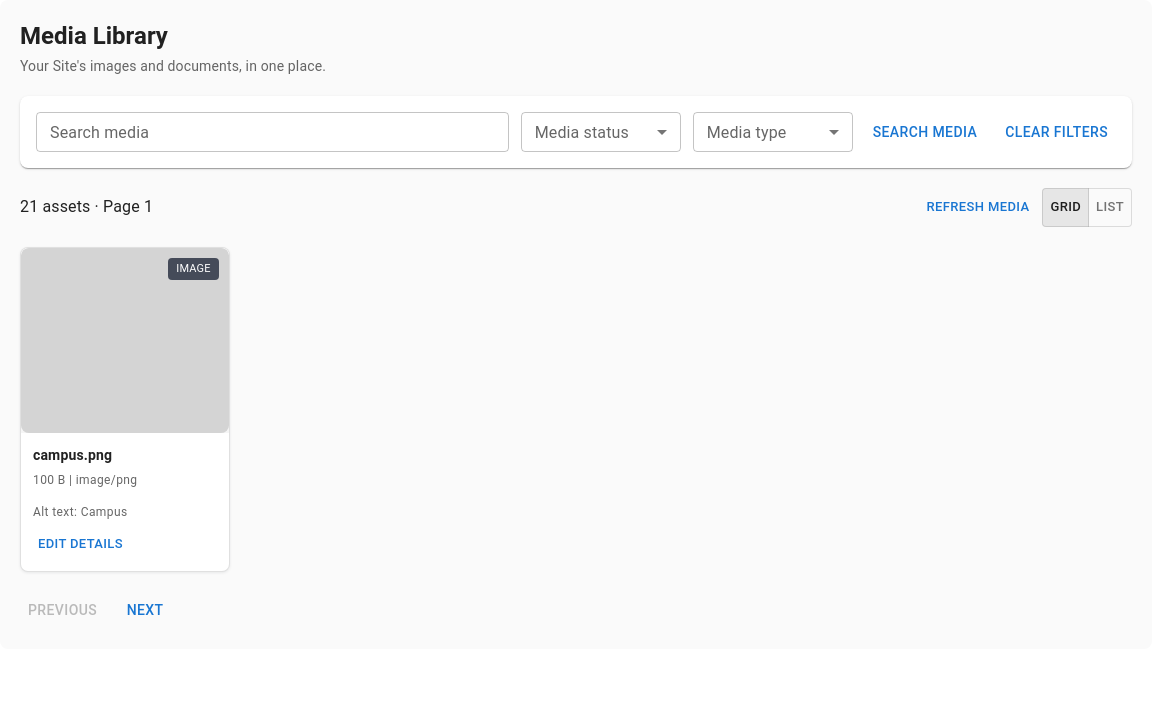
Test case: MediaLibrary › applies filename search before paging and resets to the first page
Expected: the text "campus.png" is shown, top-left (33, 447), bottom-right (112, 463)
Click the button "Next": click(145, 611) top-left (113, 592), bottom-right (177, 629)
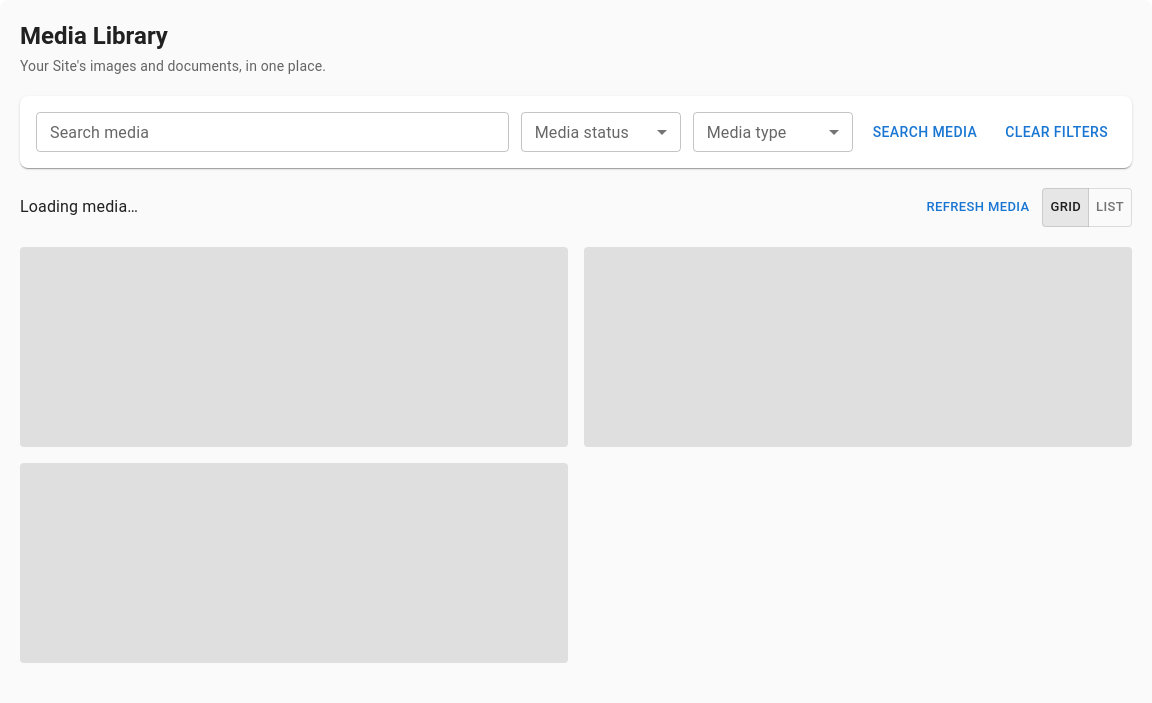
In the field labelled "Search media": (272, 132) top-left (36, 112), bottom-right (509, 152), type "campus"
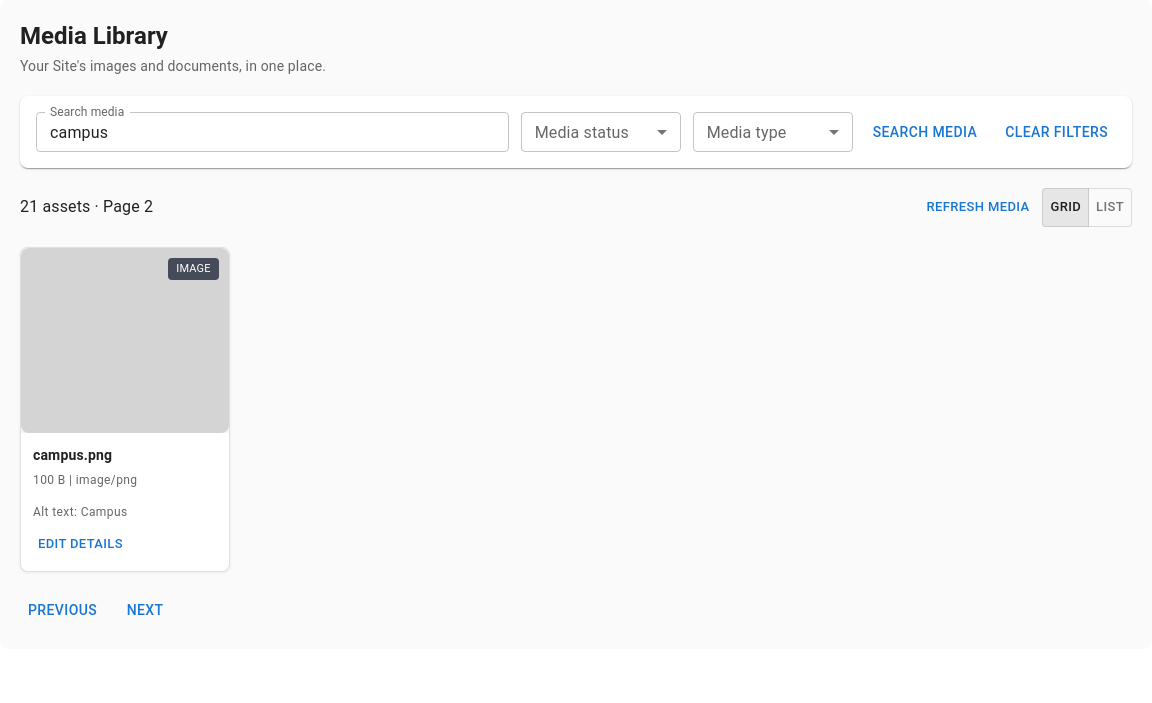
Submit the form named "Search Site media", box top-left (20, 96), bottom-right (1132, 168)
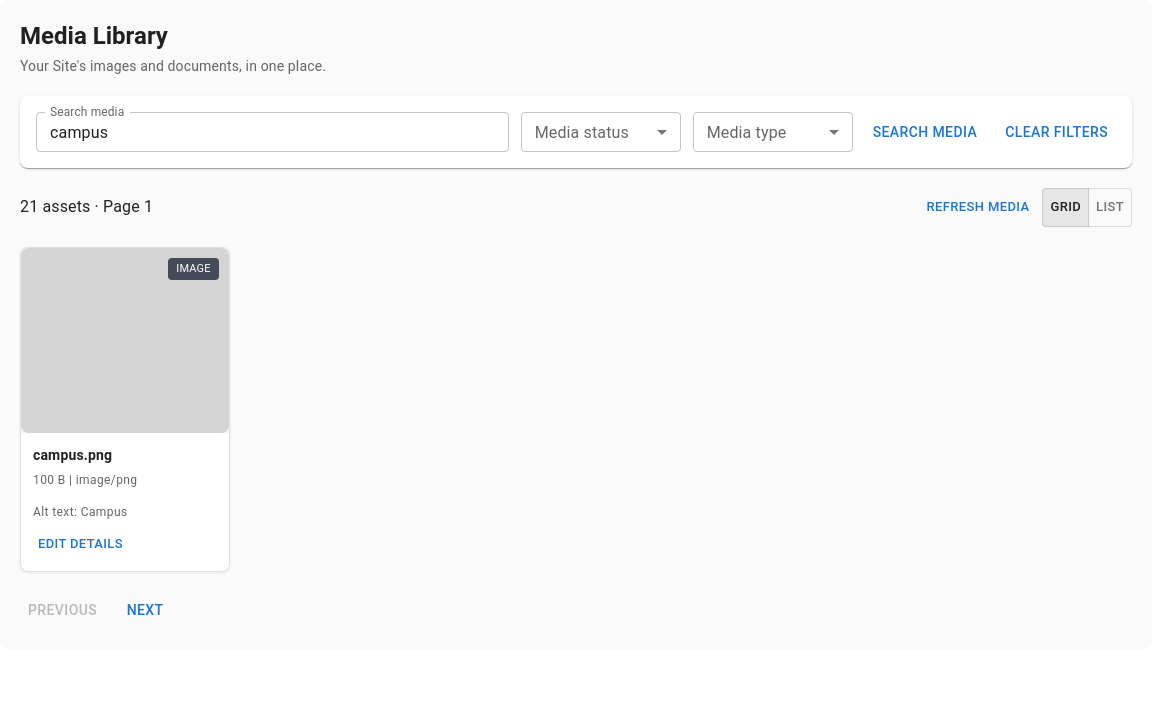
Click the button "Clear filters": click(1057, 132) top-left (997, 114), bottom-right (1116, 150)
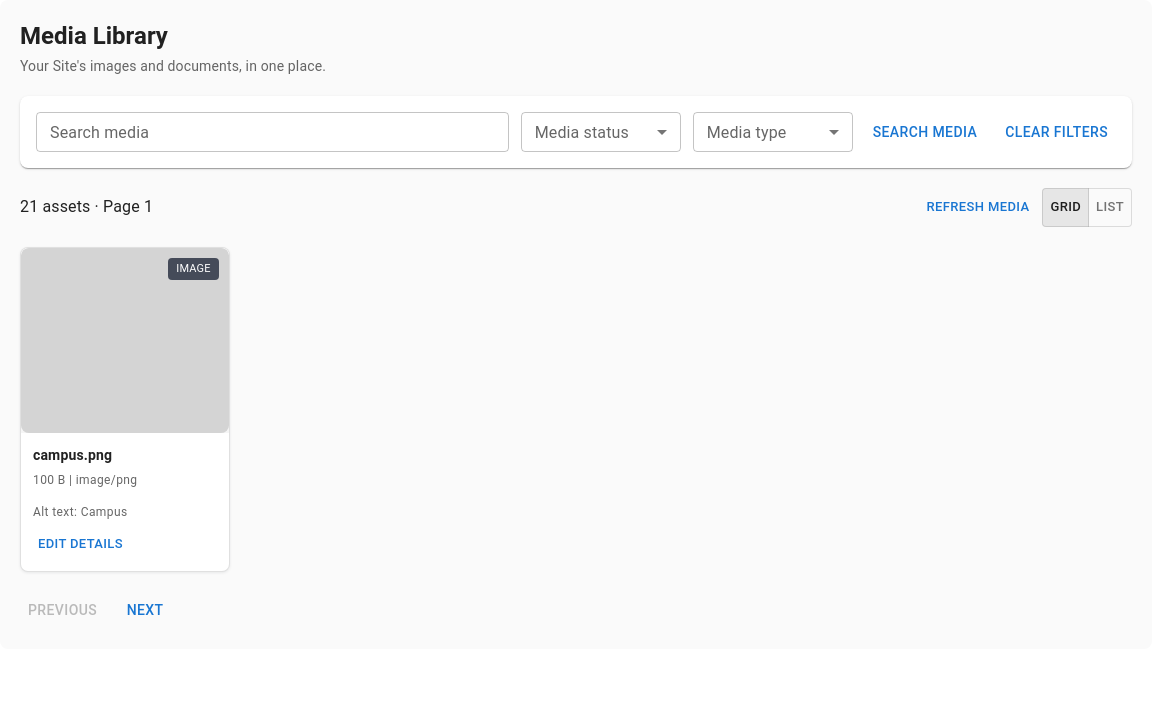
Now the field labelled "Search media" is empty, box top-left (36, 112), bottom-right (509, 152)
